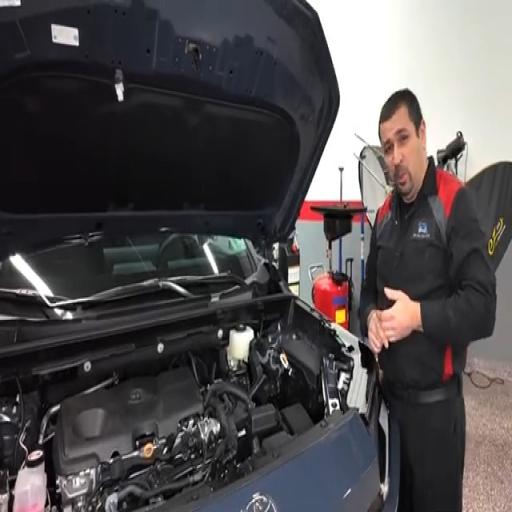bumper: (173, 412, 399, 511)
emblem: (241, 494, 277, 511)
hood: (0, 0, 339, 251)
windshield: (0, 232, 255, 298)
